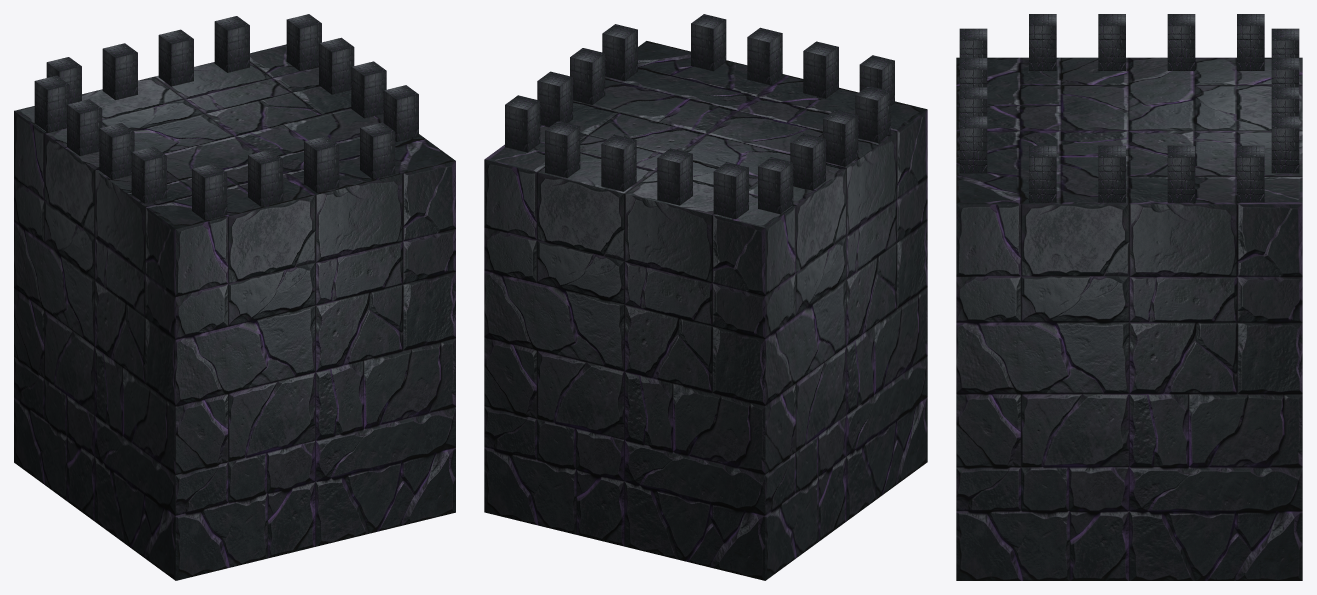
Rendered from dark_fortress.obj.
The picture shows the model from 3 angles, left to right: view 1: azimuth 30°, elevation 25°; view 2: azimuth 150°, elevation 25°; view 3: azimuth 270°, elevation 25°; orthographic projection. The views are drawn at different scales.
Parts seen in each view (by area): view 1: building; view 2: building; view 3: building.
Boxes of the visible parts, left/top/right/bottom form: building: left=14, top=14, right=455, bottom=580; building: left=484, top=14, right=927, bottom=580; building: left=956, top=14, right=1302, bottom=580.
Size of the model in its own units: 5 by 6.72 by 5.
